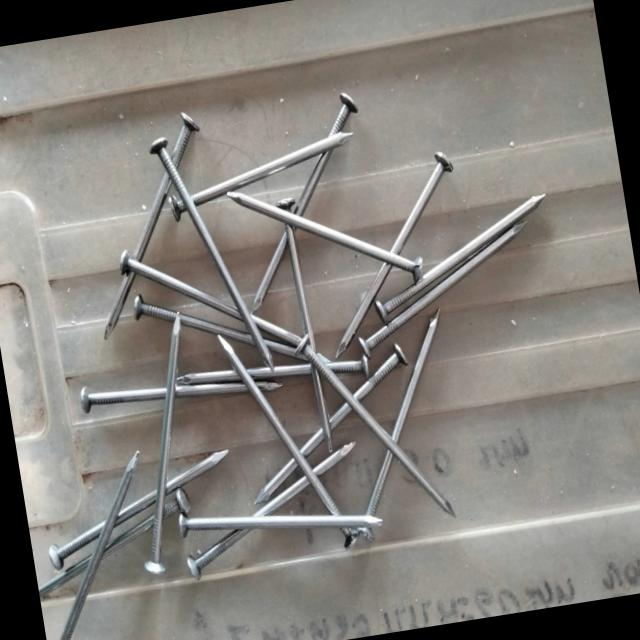3x10 nail: (280, 300, 471, 552), (91, 288, 243, 602), (18, 436, 184, 640), (154, 114, 371, 234)
